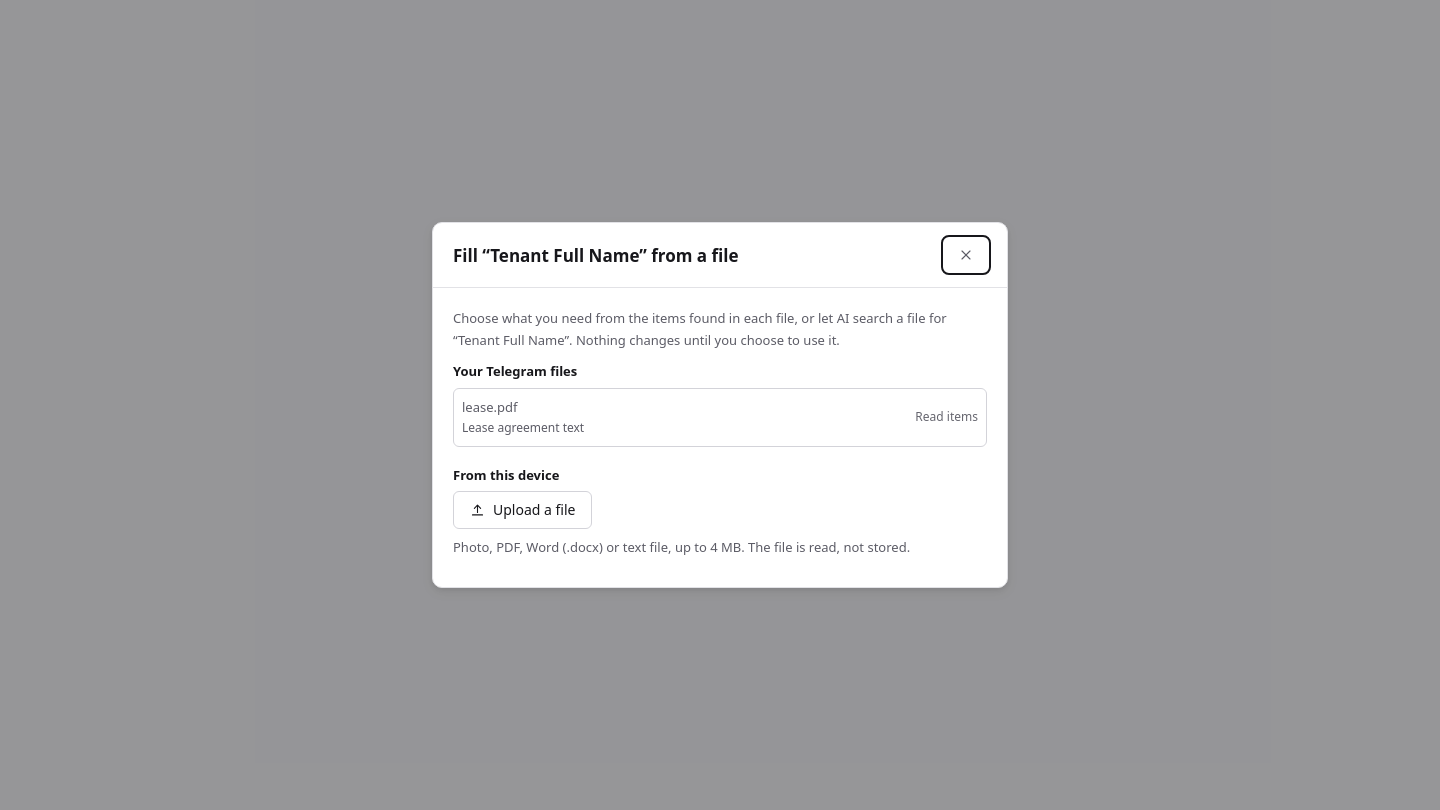
Test: FieldFileFillDialog with the items found in each file › says why a file could not be read, and lets the user try again by selecting it again
Click the button "lease.pdf Lease agreement text Read items".
click(490, 407)  # box [453, 388, 987, 447]
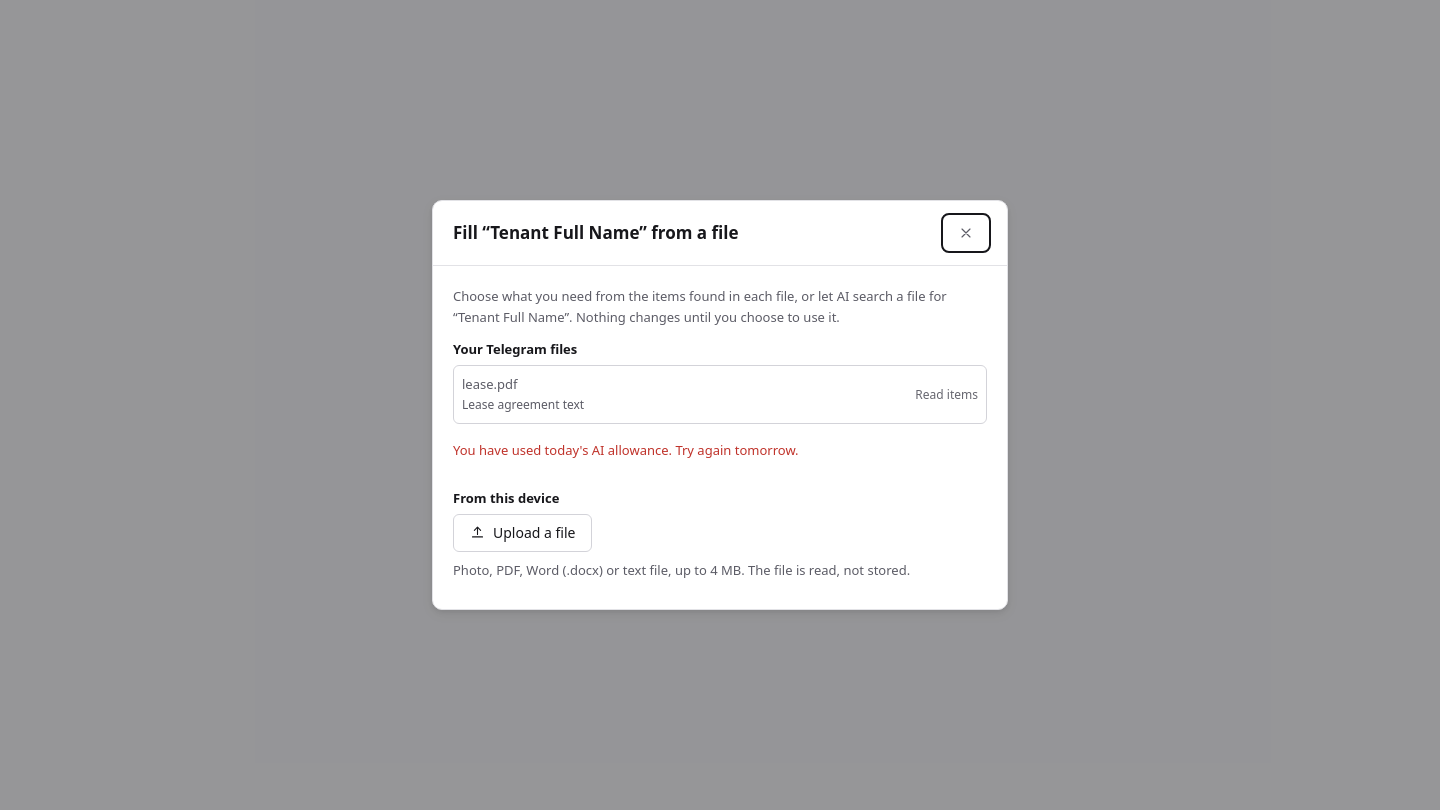
Expected: the message with test id "field-fill-items-error-f1" shows "used today's AI allowance", [453, 441, 799, 459]
Click the button "lease.pdf Lease agreement text Read items".
click(490, 384)  # box [453, 365, 987, 424]
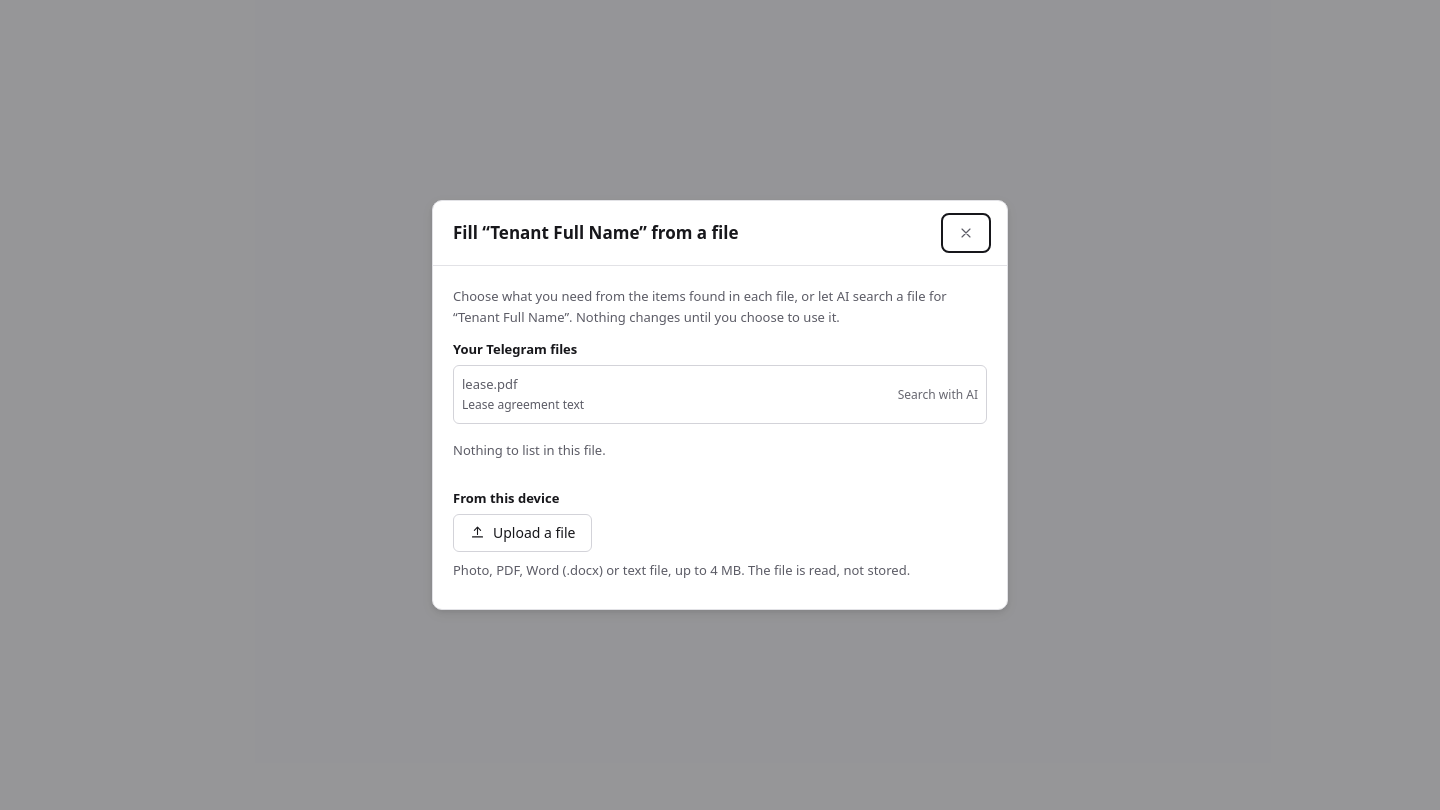
Expected: the message with test id "field-fill-items-error-f1" is gone
Expected: the text "Nothing to list in this file." is shown, [453, 441, 606, 459]
